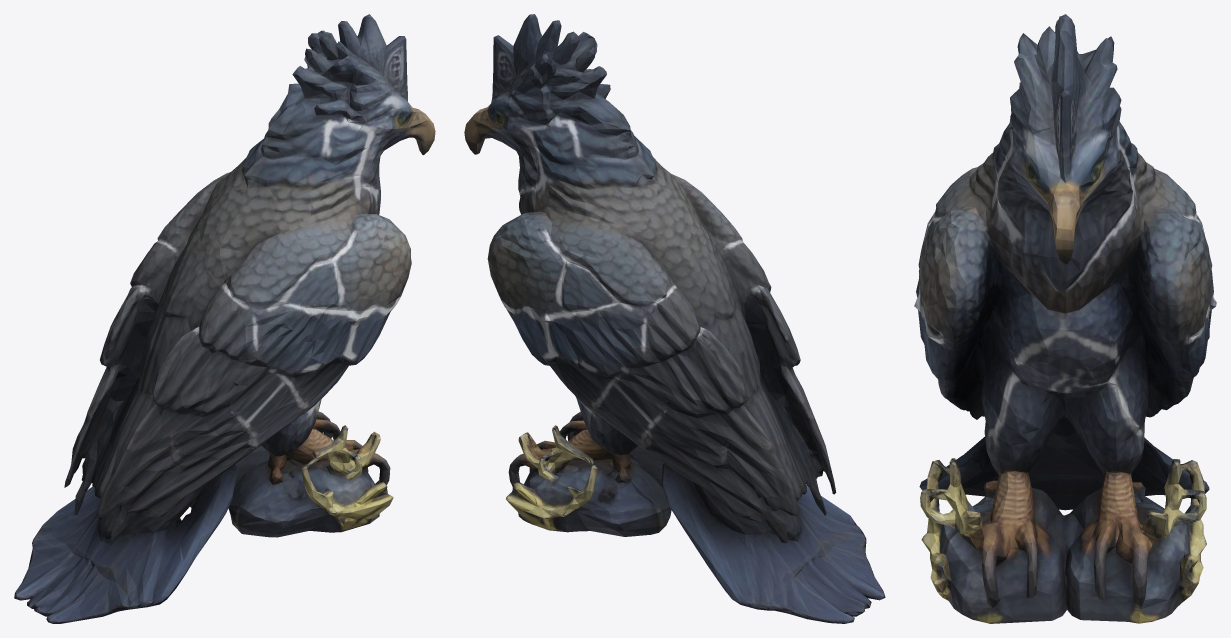
Rendered from stormRoc.glb.
3 views of the same model, side by side, from view 1: azimuth 30°, elevation 25°; view 2: azimuth 150°, elevation 25°; view 3: azimuth 270°, elevation 25° (orthographic). The views are drawn at different scales.
Parts seen in each view (by area): view 1: world; view 2: world; view 3: world.
Part boxes in pixels (x1=…): world: x1=14, y1=14, x2=435, y2=623; world: x1=464, y1=14, x2=885, y2=623; world: x1=914, y1=14, x2=1216, y2=623.
Bounding box in the file's own units: 0.752 × 0.9311 × 0.3803.
1 material, 1 textured.
